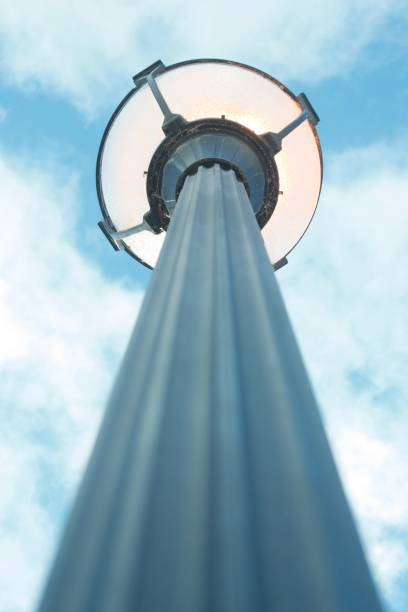light_pole: (43, 167, 384, 612)
